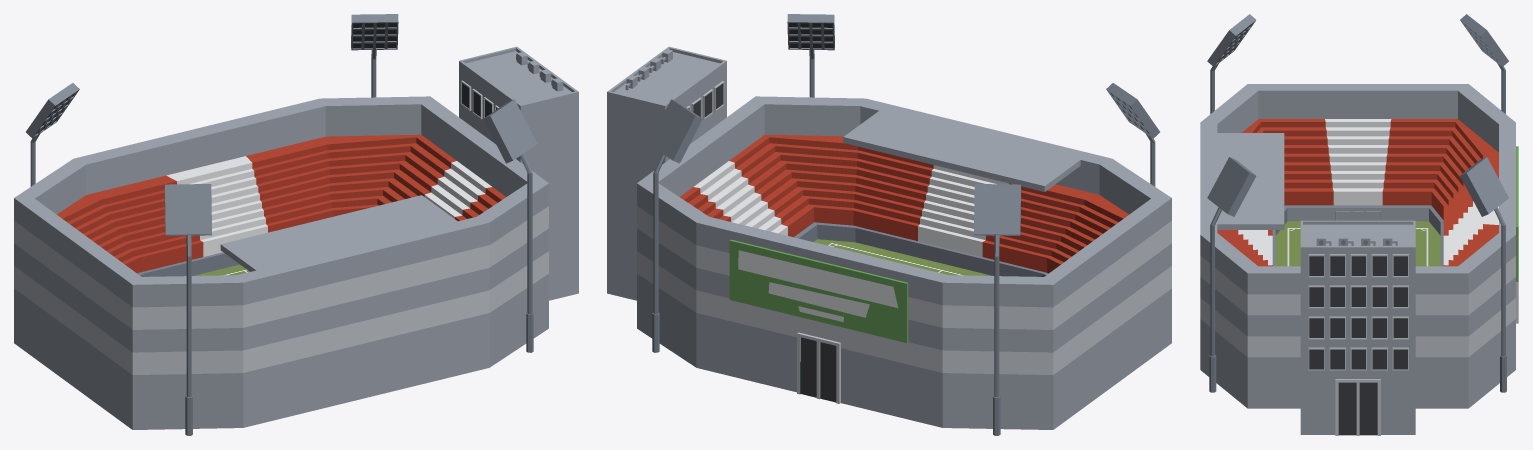
The model's file is Building_Stadium.fbx.
The picture shows the model from 3 angles, left to right: view 1: azimuth 30°, elevation 25°; view 2: azimuth 150°, elevation 25°; view 3: azimuth 270°, elevation 25°; orthographic projection. The views are drawn at different scales.
Visible parts, largest first — view 1: Building_Stadium; view 2: Building_Stadium; view 3: Building_Stadium.
Part boxes in pixels (x1,y1,x2,y2): Building_Stadium: (14,14,578,435); Building_Stadium: (607,14,1171,435); Building_Stadium: (1200,14,1518,435).
Bounding box in the file's own units: 7515 × 3564 × 4668.
